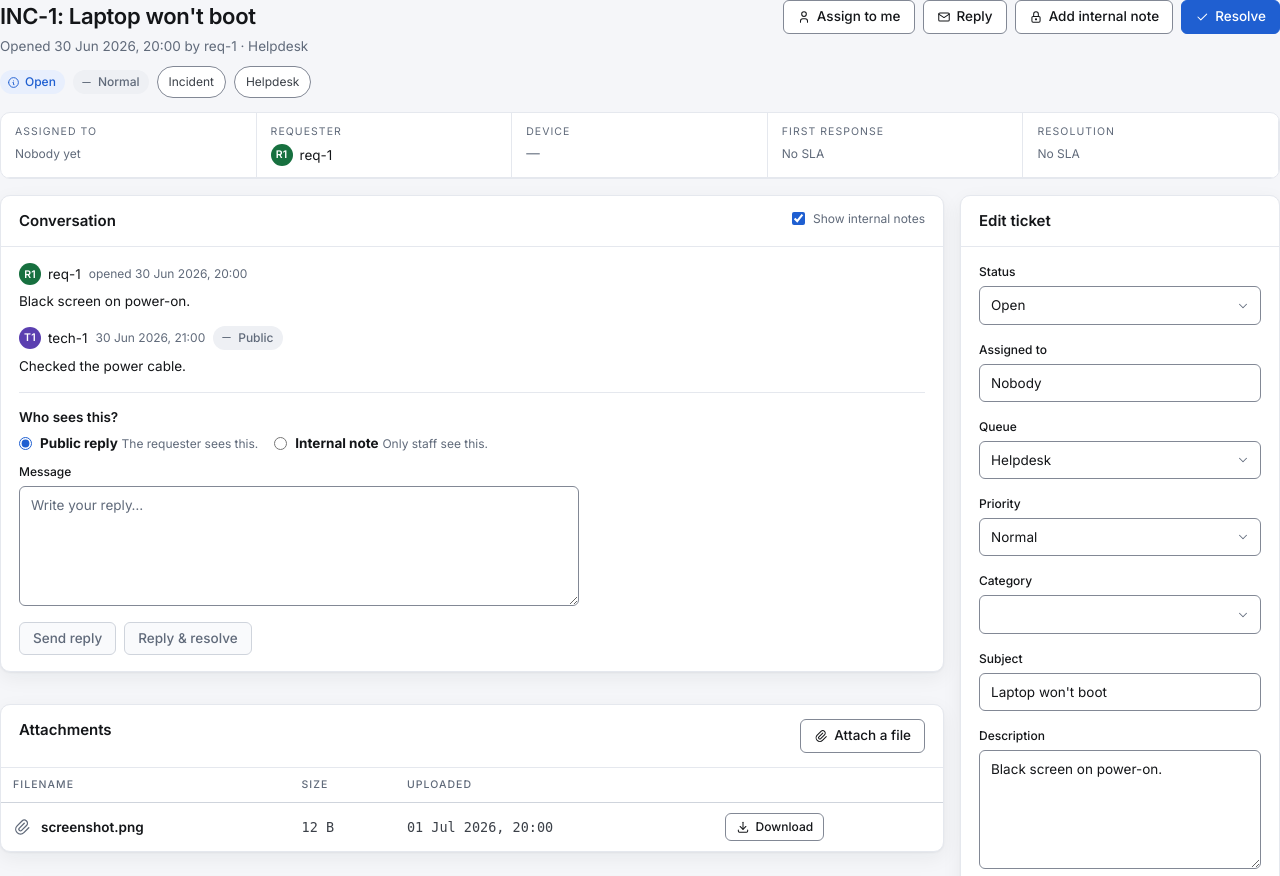
service desk reports every failure as an announced sentence › explains a bodyless 503 on Save changes instead of rendering the error object
Step 1. Type " again" into the field labelled "Subject" → (1120, 692), box [979, 673, 1261, 711]
(page scrolled)
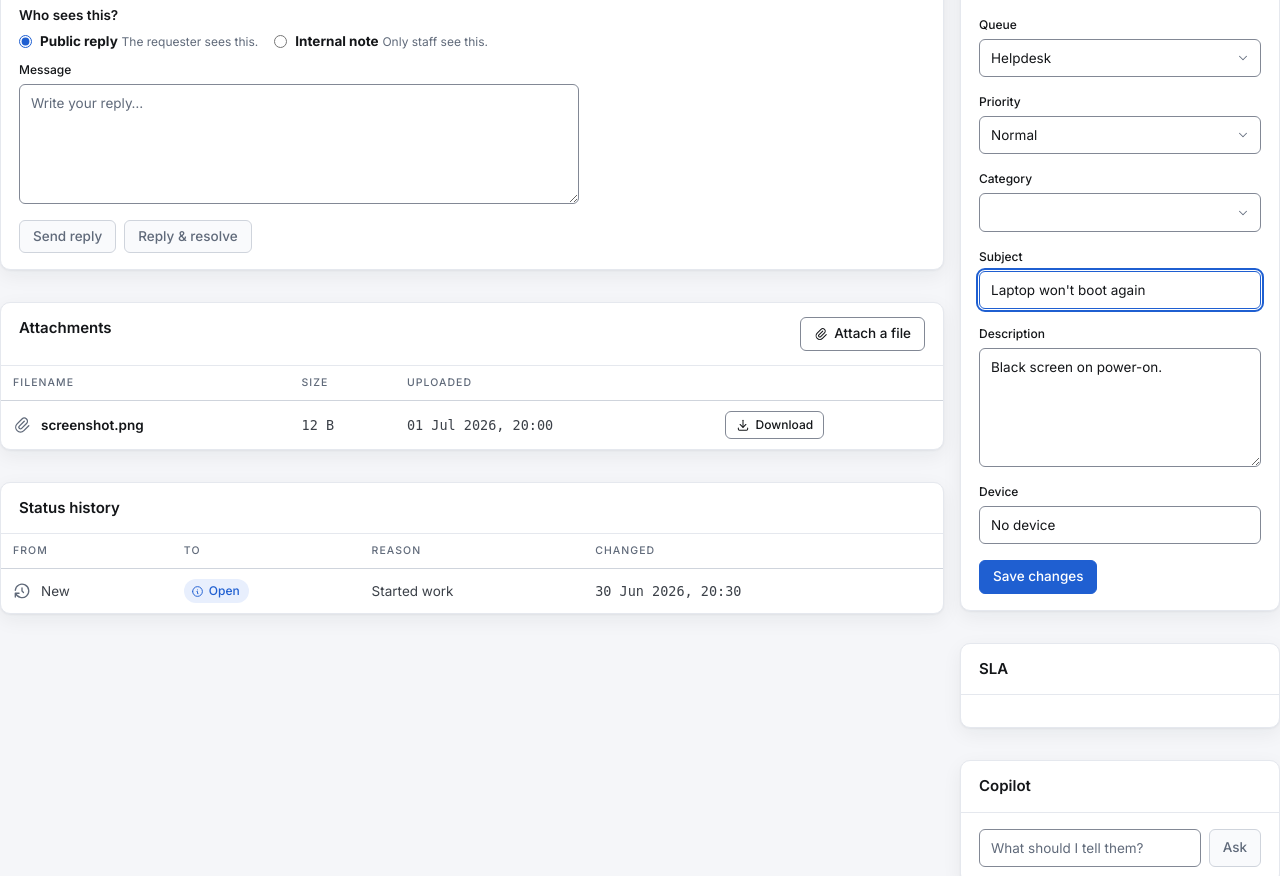
Step 2. Click the button "Save changes" → (1038, 577), box [979, 560, 1098, 594]
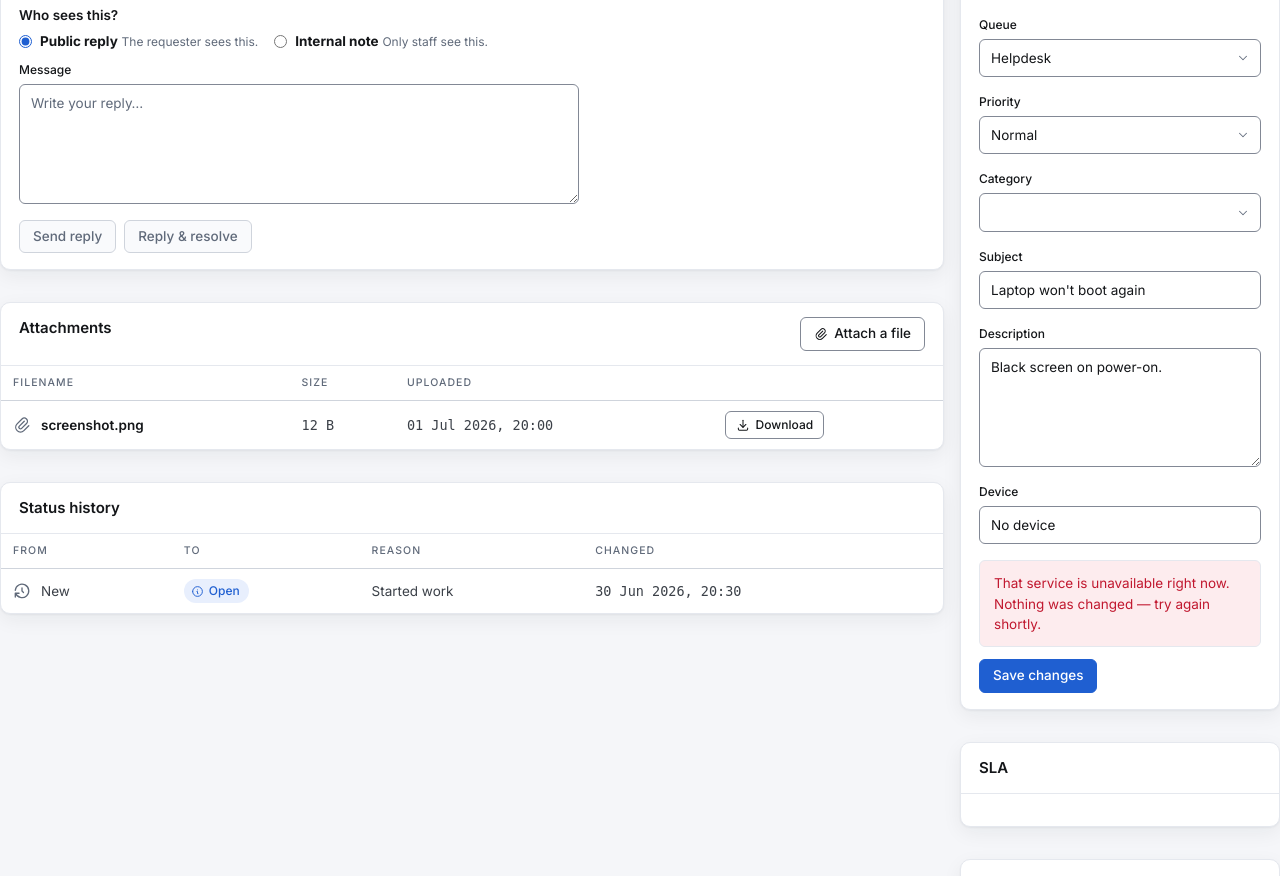
expect the message does not show "ApiError": met, box [979, 560, 1261, 647]
expect the message shows "unavailable right now": met, box [994, 575, 1230, 632]
